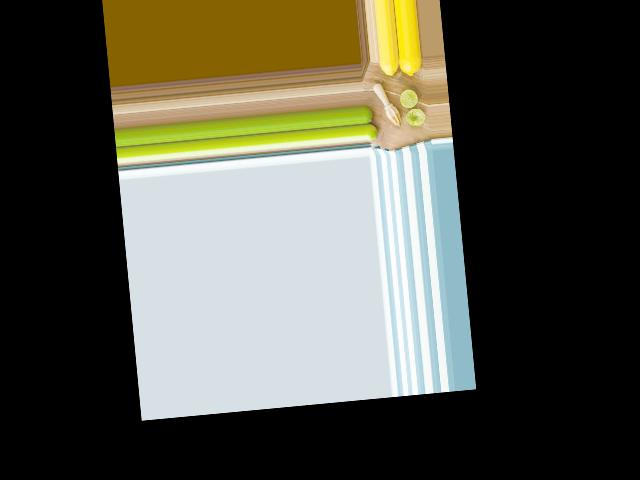lemon: (396, 57, 424, 80)
